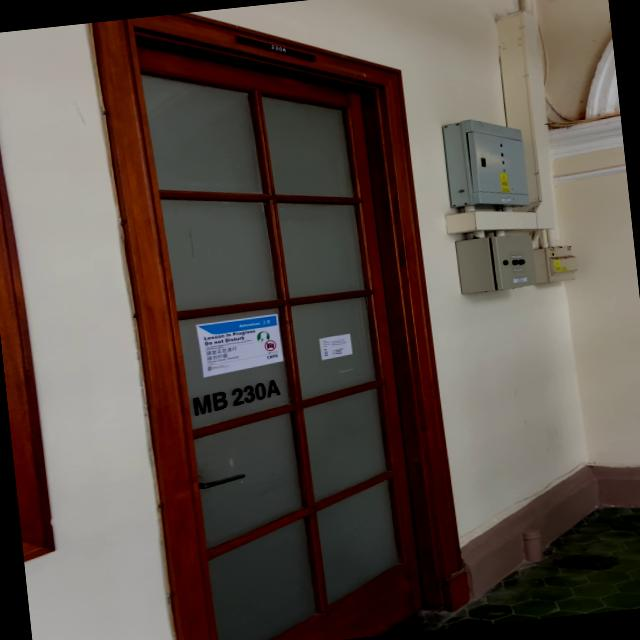room230A: (234, 24, 316, 70)
room230AWindow: (188, 376, 282, 418)
